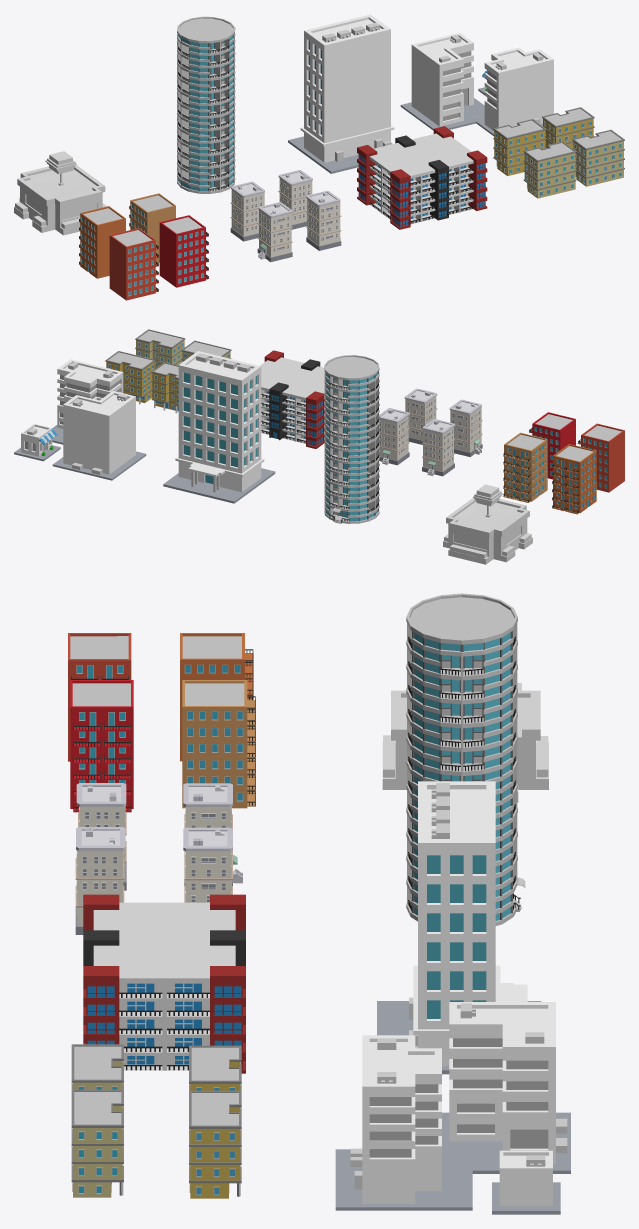
Rendered from now_lower_half_v1.fbx.
The picture shows the model from 3 angles, top to bottom: view 1: azimuth 30°, elevation 25°; view 2: azimuth 150°, elevation 25°; view 3: azimuth 270°, elevation 25°; orthographic projection. The views are drawn at different scales.
Visible parts, largest first — view 1: Cube.002_Cube.001; view 2: Cube.002_Cube.001; view 3: Cube.002_Cube.001.
Part boxes in pixels (<box>): Cube.002_Cube.001: <box>14,14,624,300</box>; Cube.002_Cube.001: <box>14,329,624,564</box>; Cube.002_Cube.001: <box>68,593,570,1214</box>.
Bounding box in the file's own units: 74002 × 21210 × 33056.
